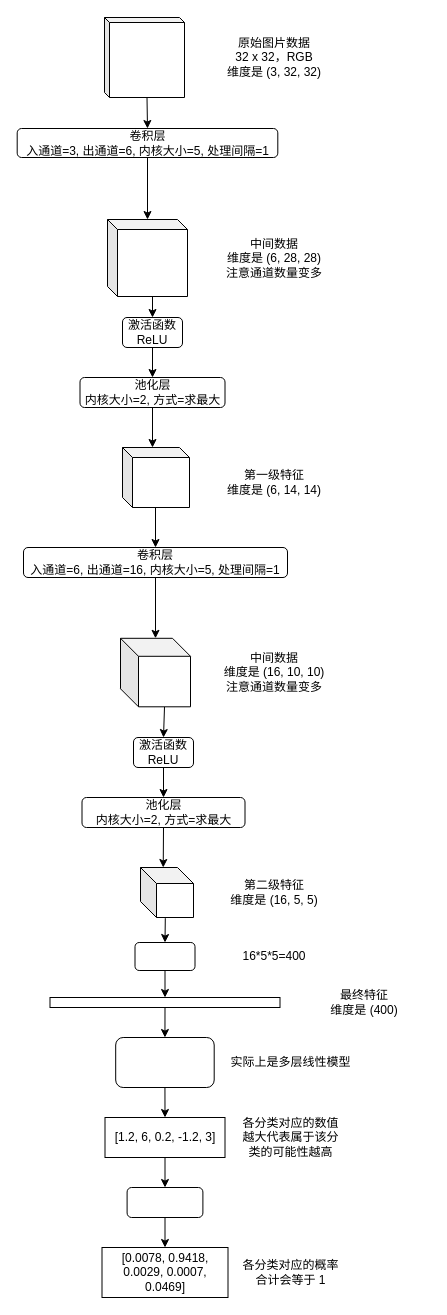
Some shapes in this 447 by 1315 pixel diagram are drawn without their labels. The shapes that lost their labels are listed below. From the top down, each one's centre as x and y in pixels, then its label:
the point at 164,956: 扁平化
the point at 164,1062: 全连接层 输入 = 400 输出 = 分类数量
the point at 164,1202: Softmax
